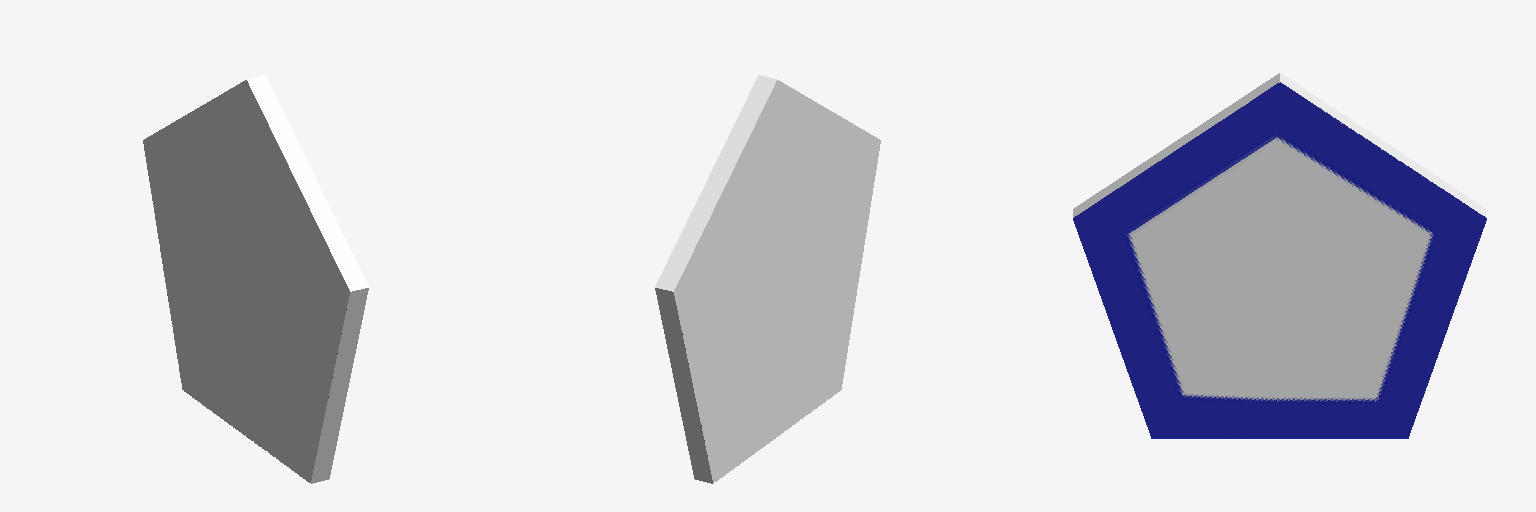
3 renders of one model, left to right at view 1: azimuth 30°, elevation 25°; view 2: azimuth 150°, elevation 25°; view 3: azimuth 270°, elevation 25°, orthographic.
Visible parts, largest first — view 1: Circle; view 2: Circle; view 3: Circle.
Boxes of the visible parts, <box> form: Circle: <box>143,75,368,483</box>; Circle: <box>655,75,880,483</box>; Circle: <box>1073,73,1486,438</box>.
Bounding box in the file's own units: 0.1 × 1.81 × 1.9.
Materials: 1 (1 with a texture image).